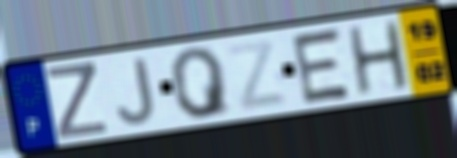E: (289, 24, 355, 107)
H: (345, 18, 413, 98)
J: (114, 55, 158, 128)
Q: (167, 45, 235, 122)
Z: (43, 60, 111, 142), (223, 36, 291, 114)
